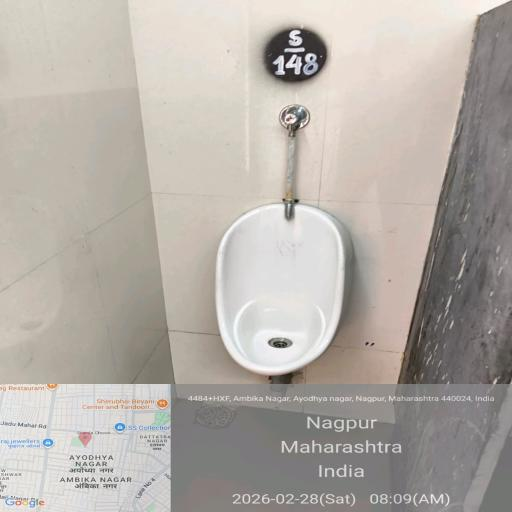clean_floor: (45, 280, 497, 512), (14, 6, 488, 204)
clean_urinal: (166, 164, 410, 455)
